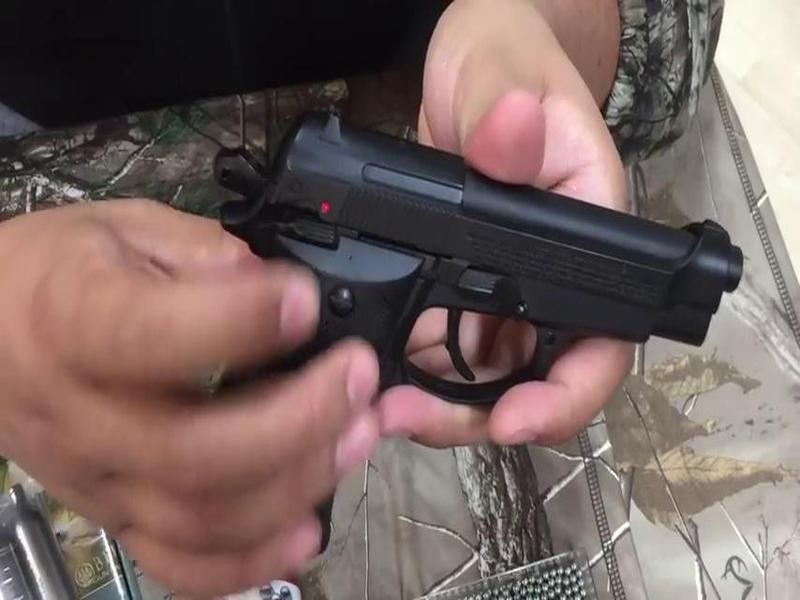Pistola: (188, 95, 729, 461)
